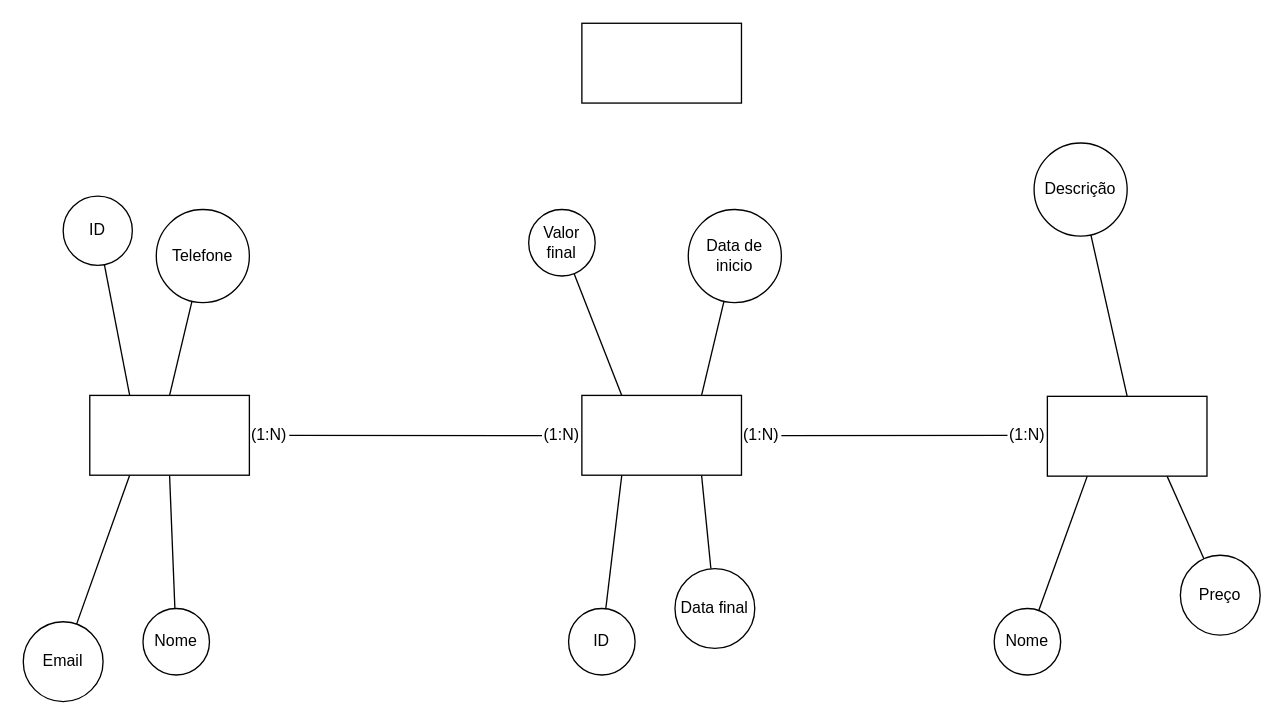
The diagram is 1283 pixels wide and 725 high, and some of its shapes have lost their labels. Here are the shapes that lost their labels. From the top down, the centre of each, then its label:
At [661,62]: "Fornecedor".
At [168,434]: "Funcionário".
At [661,434]: "Ordem de Produção".
At [1126,435]: "Produto".
